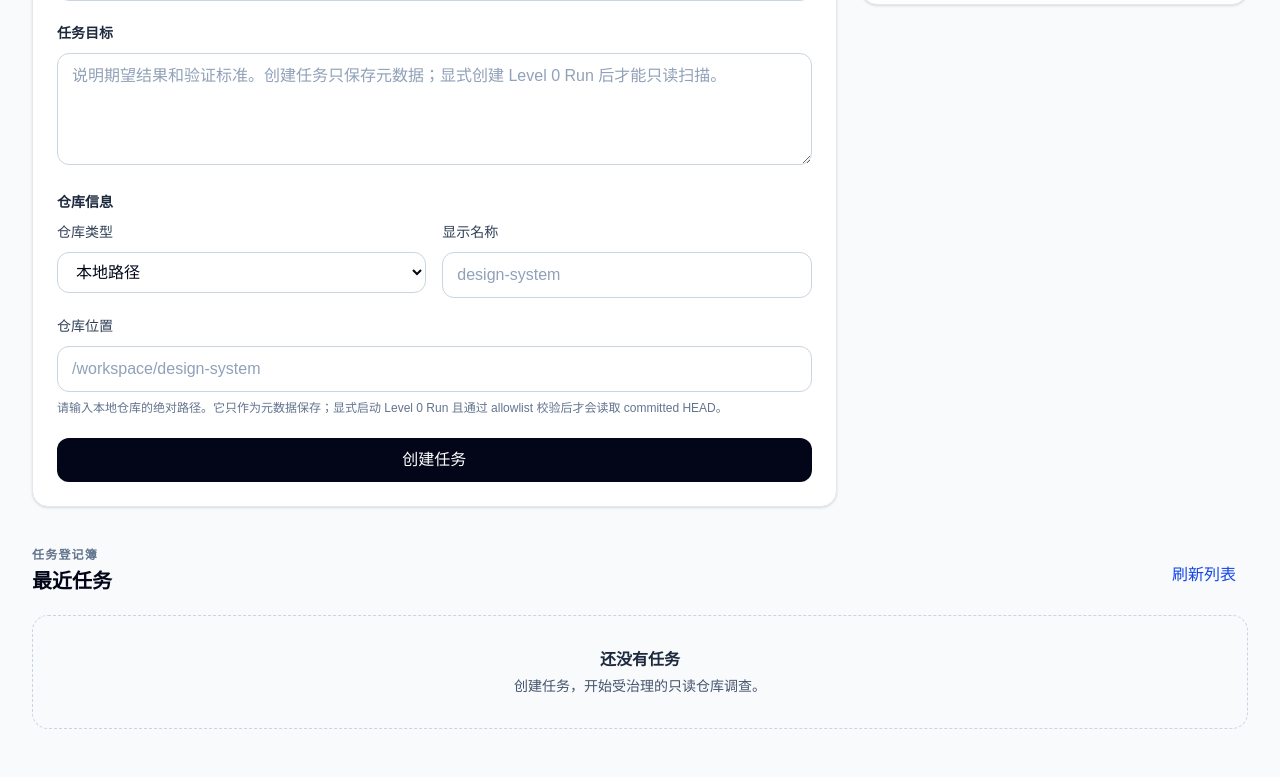
Scenario: Dashboard › validates required fields before making a request
(page scrolled)
What coordinates should you click on to do the following:
click the button "创建任务"
I would click on:
 (434, 460)
Its box is [57,438,812,482].
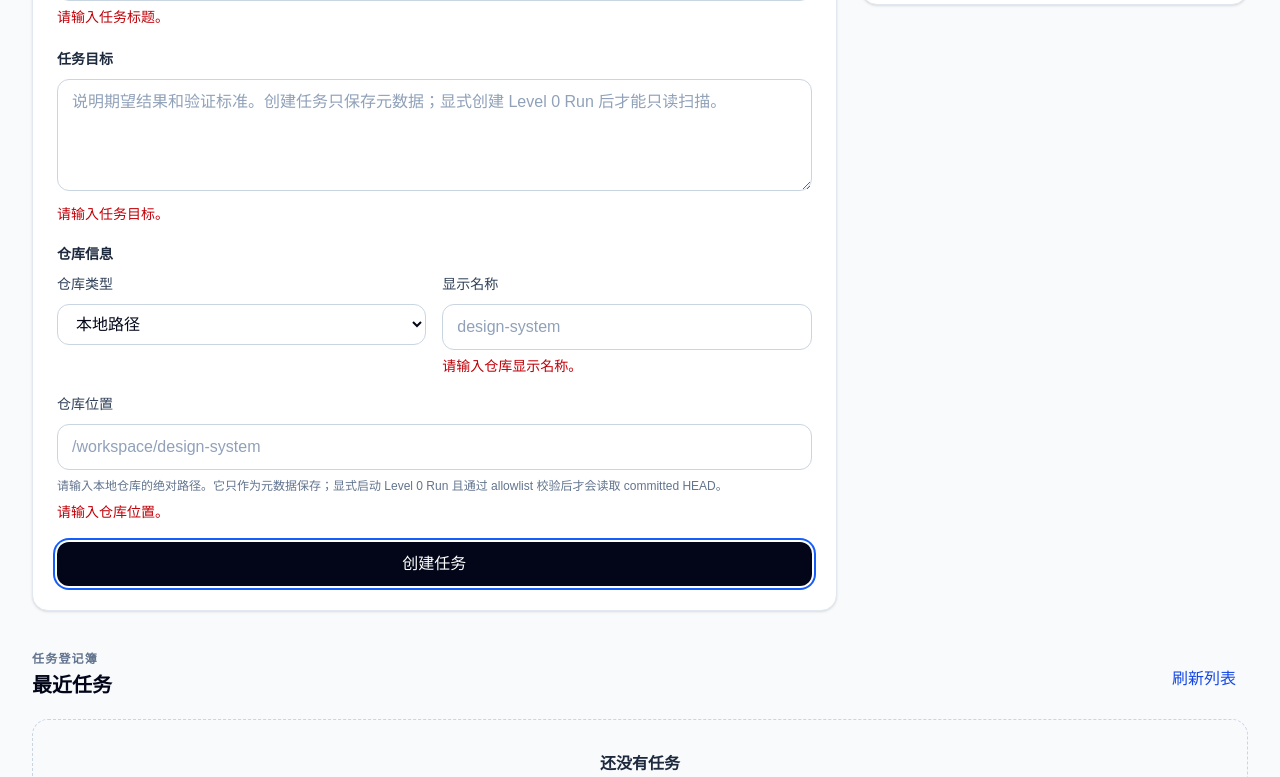
Now the text "请输入任务标题。" is shown, box [57,9,169,25]
Now the text "请输入任务目标。" is shown, box [57,206,169,222]
Now the text "请输入仓库显示名称。" is shown, box [442,358,582,374]
